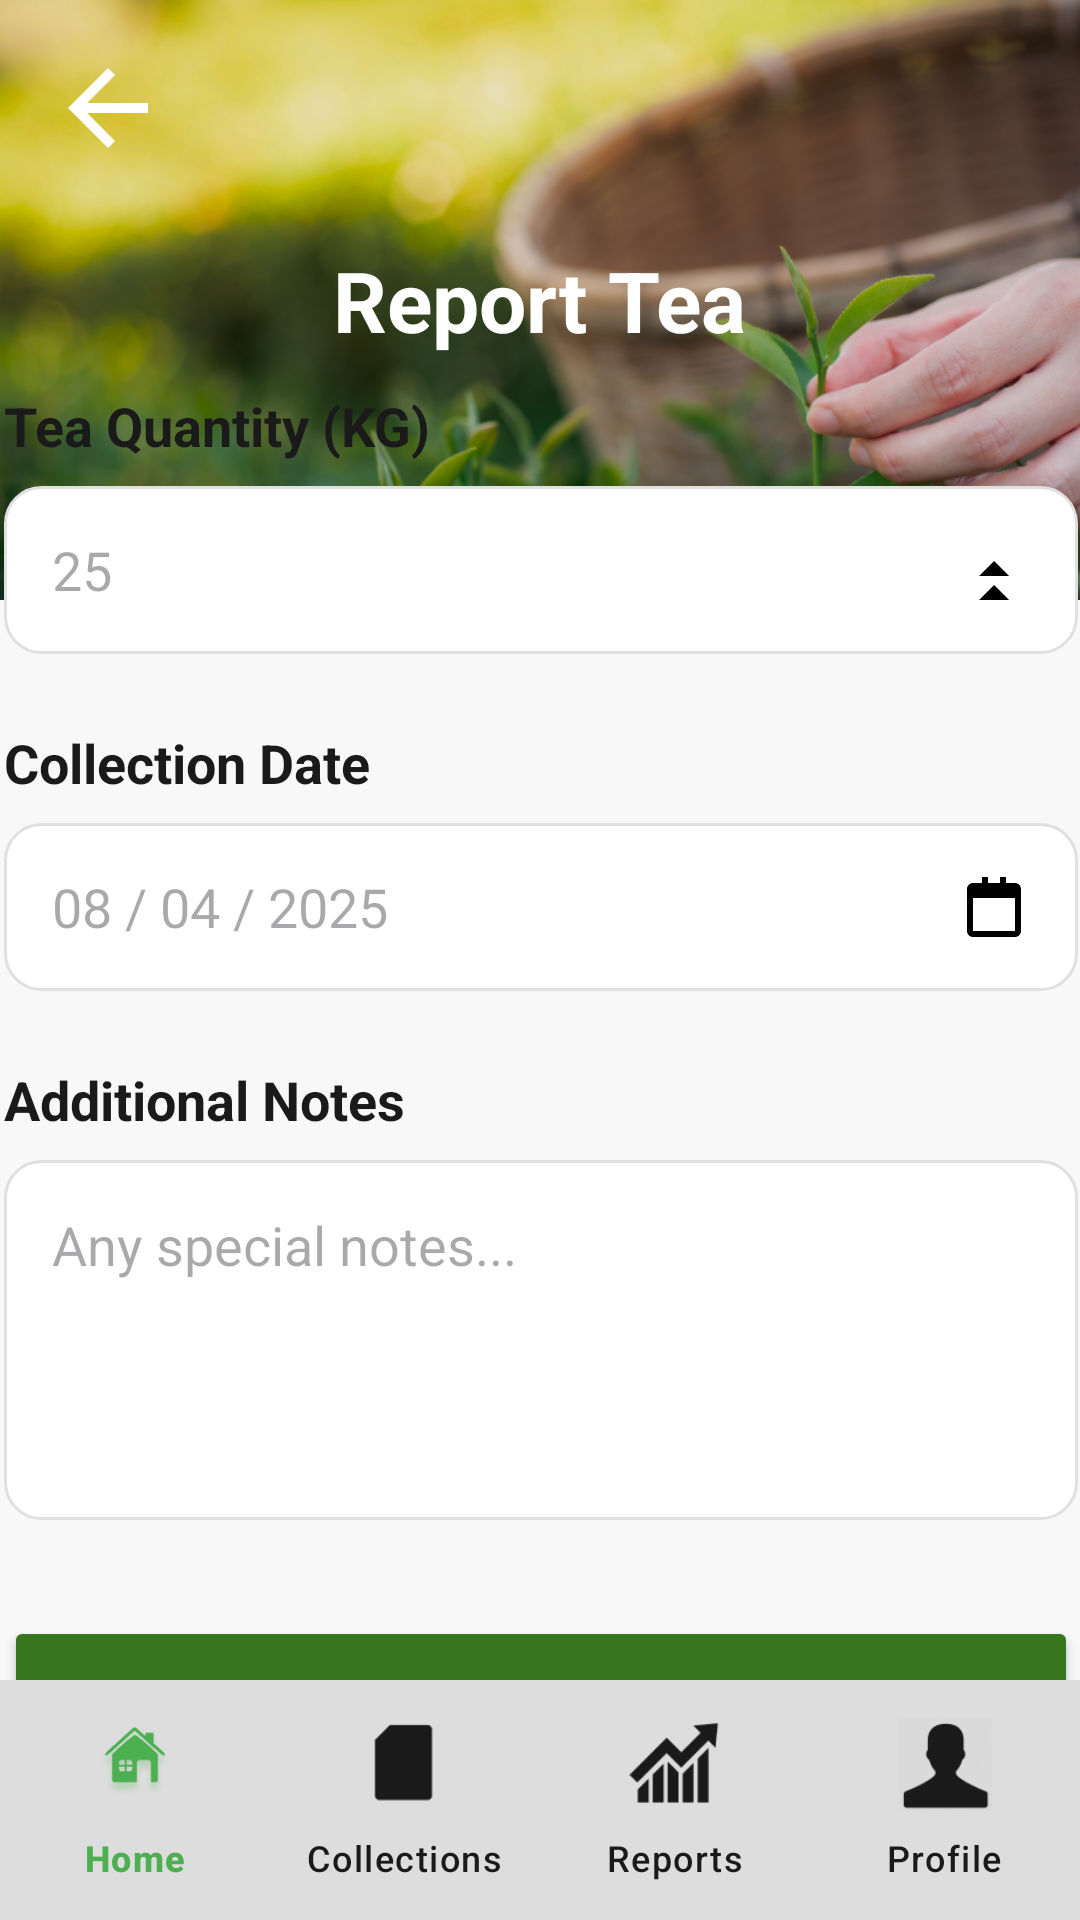

Locate icon controls on the screen. Image size 1080*1920, boxes as [x1, y1, x2, y2].
back arrow: [48, 48, 168, 168]
